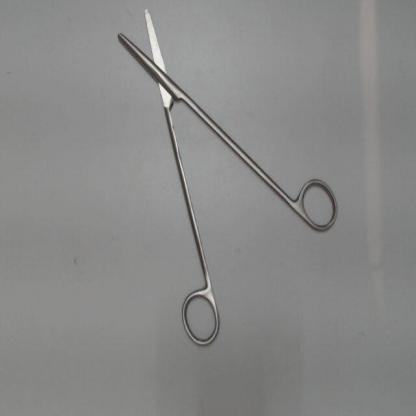9 Metzenbaum Scissors: (116, 5, 342, 354)
